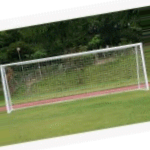goals: (2, 42, 150, 112)
